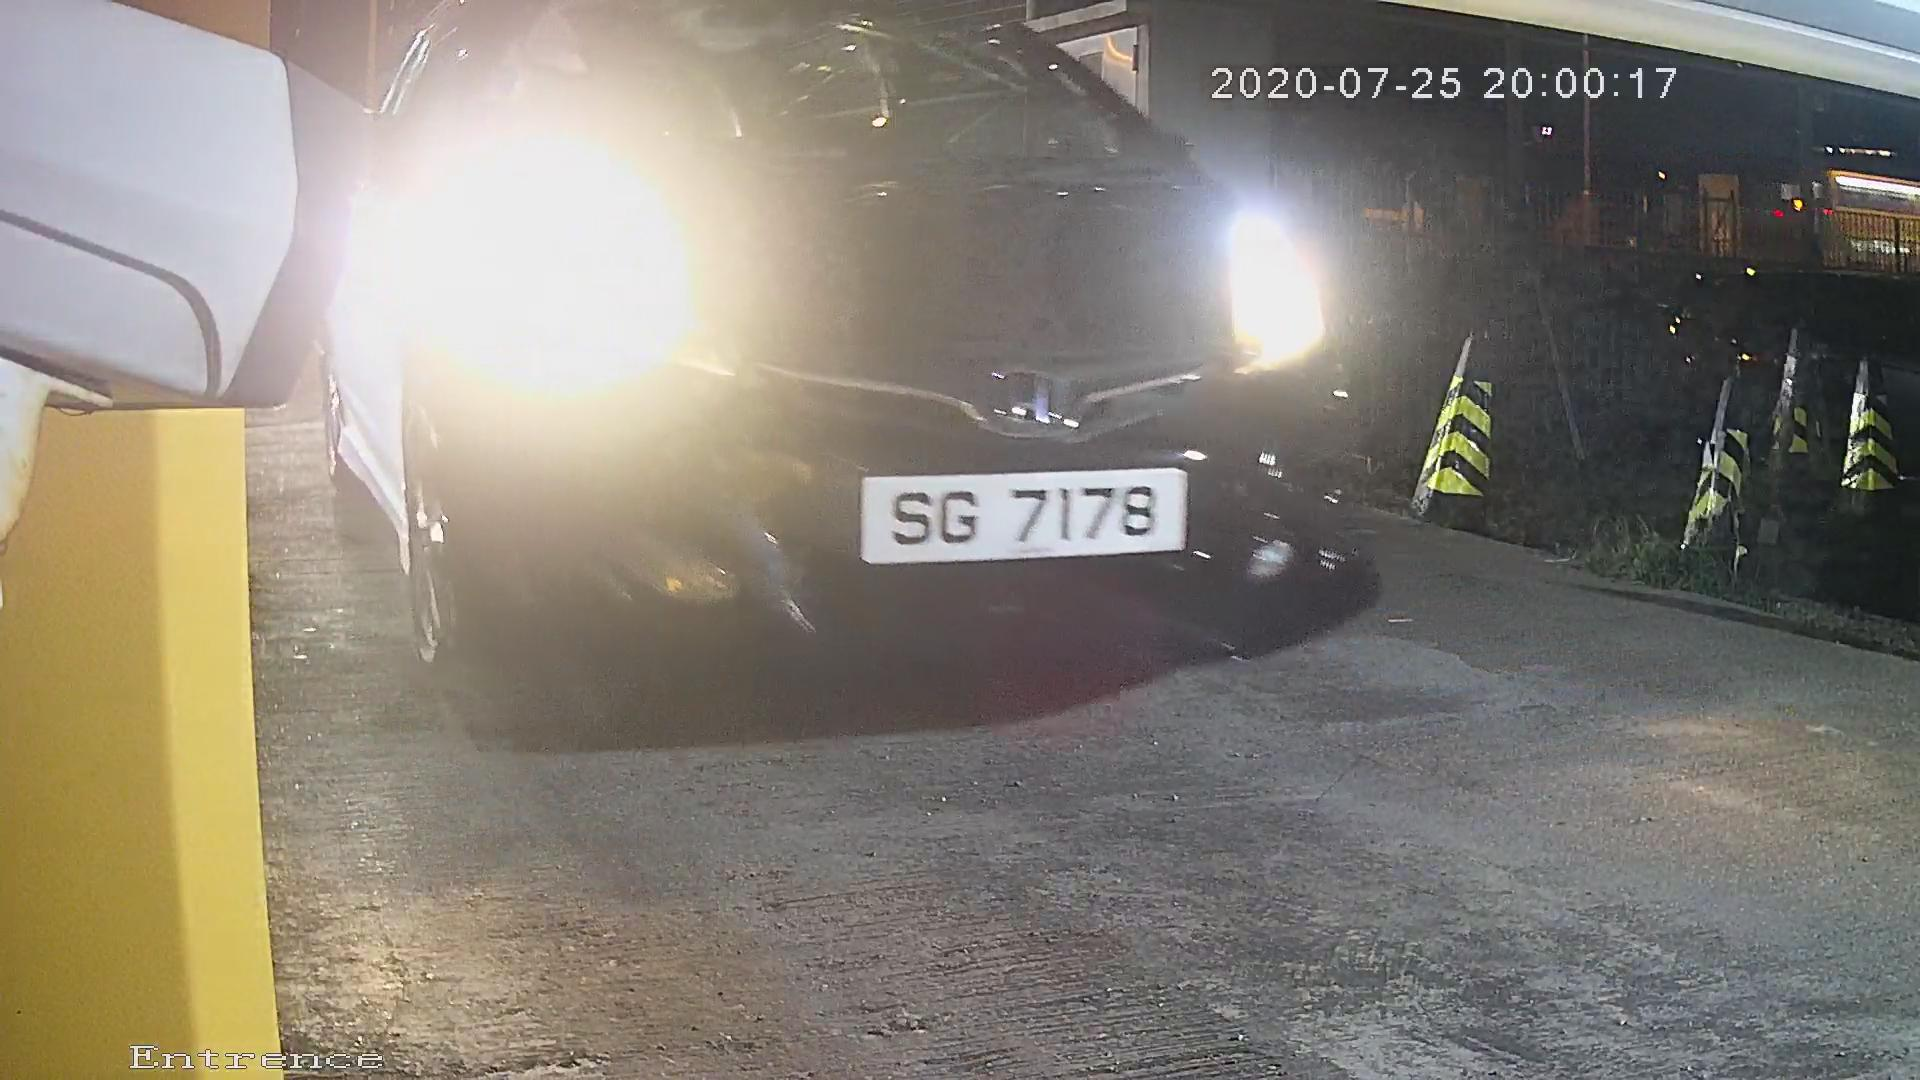License Plate: (815, 454, 1209, 560)
